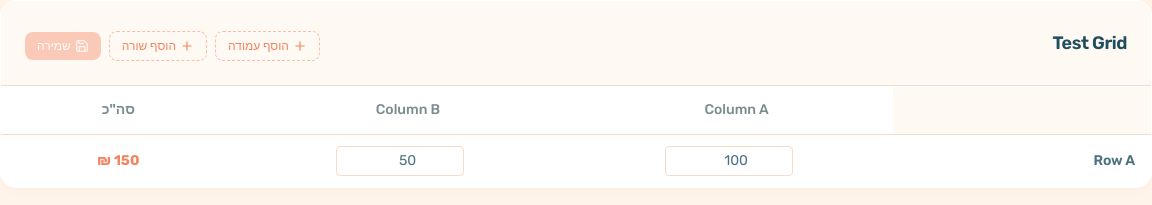
Scenario: GridTable › marks a cell dirty after edit and saves pending changes on save click
The image size is (1152, 205).
Expected: the text "Column A" is shown, [704,101,769,118]
Expected: the button "שמירה" is disabled, [25,32,101,60]
Replace the text in the 2nd number field with "200" at (729, 160), box [665,146,793,176]
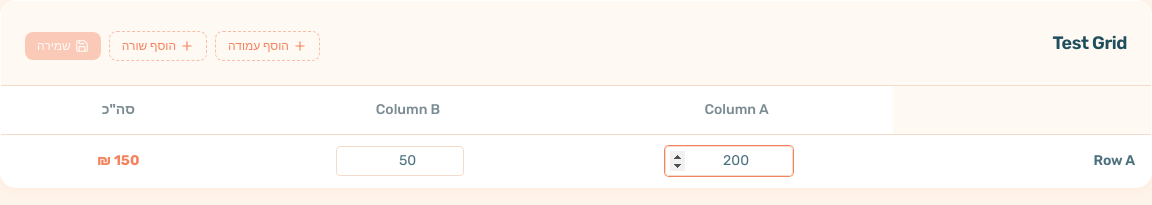
Press Tab
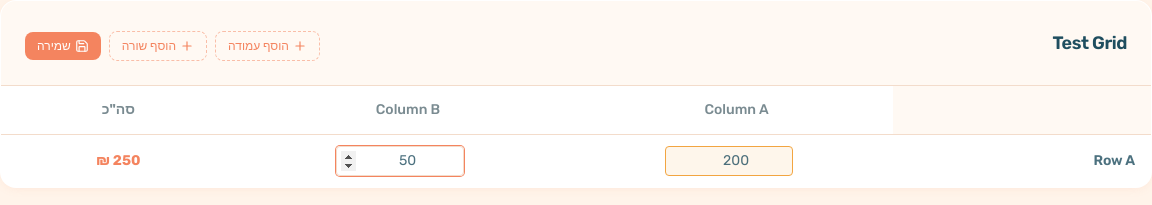
Expected: the button "שמירה" is enabled
Click the button "שמירה" at (63, 46), box [25,32,101,60]
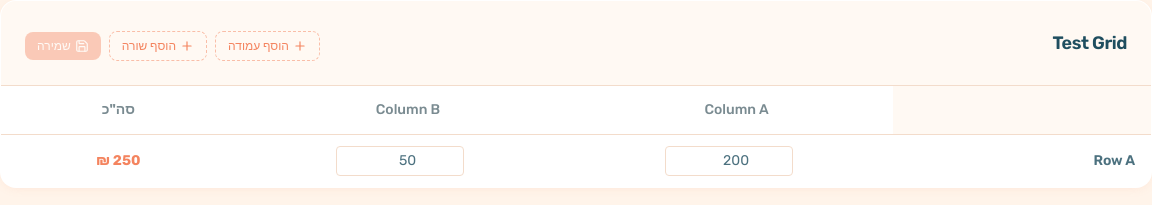
Expected: the button "שמירה" is disabled, [25,32,101,60]
